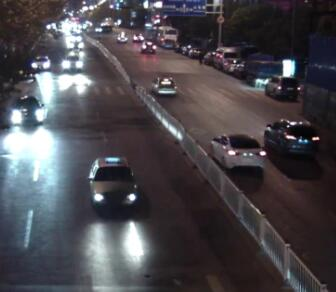bus: (152, 23, 177, 49), (143, 21, 156, 44)
car: (87, 157, 140, 216), (210, 133, 266, 173), (264, 119, 319, 159), (8, 94, 48, 128), (245, 51, 282, 85), (264, 75, 301, 99), (211, 46, 238, 72), (151, 74, 177, 96), (61, 53, 83, 74), (29, 53, 51, 71), (221, 56, 241, 73), (140, 40, 157, 56), (93, 23, 114, 34), (66, 39, 85, 50), (114, 30, 129, 43), (187, 46, 202, 57), (202, 51, 214, 64), (132, 31, 144, 42), (179, 44, 191, 55)
